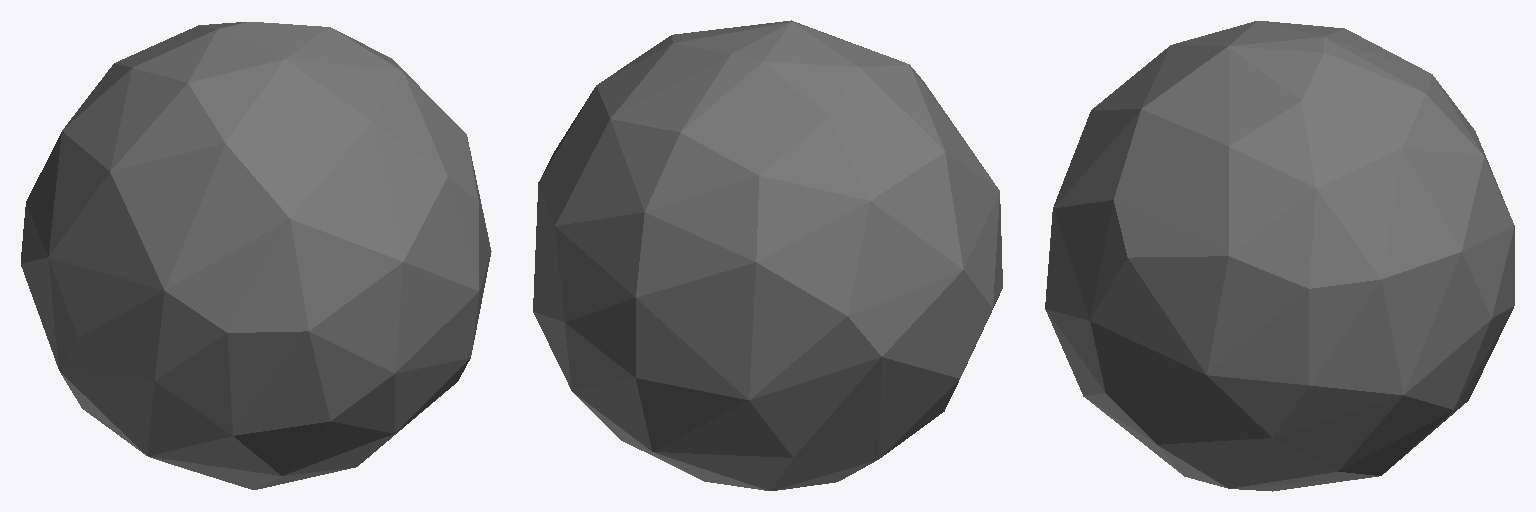
The robot description file, URDF, robot "soccer_ball_006":
<?xml version="1.0" ?>
<robot name="soccer_ball_006">
  <material name="color">
    <color rgba=".5 .5 .5 1"/>
  </material>

  <link name="base_link">
    <contact>
      <lateral_friction value="1.0"/>
      <rolling_friction value="0.001"/>
      <spinning_friction value="0.001"/>
      <inertia_scaling value="1.0"/>
    </contact>
    <inertial>
      <origin rpy="0 0 0" xyz="-4.99198e-07 -5.15482e-07 3.60259e-06"/>
       <mass value="0.1"/>
       <inertia ixx="1" ixy="0" ixz="0" iyy="1" iyz="0" izz="1"/>
    </inertial>

    <visual>
      <origin rpy="0 0 0" xyz="0 0 0"/>
      <geometry>
        <mesh filename="soccer_ball_006_vhacd_0_of_1.obj" scale="1 1 1"/>
      </geometry>
      <material name="color"/>
    </visual>

    <collision>
      <origin rpy="0 0 0" xyz="0 0 0"/>
      <geometry>
        <mesh filename="soccer_ball_006_vhacd_0_of_1.obj" scale="1 1 1"/>
      </geometry>
    </collision>

  </link>
</robot>

--- Facts derived from the render (not from the file) ---
Views: 3 orthographic renders of the robot side by side, from view 1: azimuth 30°, elevation 25°; view 2: azimuth 150°, elevation 25°; view 3: azimuth 270°, elevation 25°.
Robot: soccer_ball_006 — 1 links, 0 joints (none); root link base_link; default pose: every joint at zero.
Visible links, largest first — view 1: base_link; view 2: base_link; view 3: base_link.
Boxes of the visible links, x1,y1,x2,y2 form: base_link: (21,22,491,489); base_link: (533,20,1002,490); base_link: (1045,21,1514,491).
Bounding box of the posed robot: 0.2444 × 0.2439 × 0.2443 m (x, y, z).
Meshes: 1 distinct files referenced, 1 mesh visuals loaded (1 OBJ).